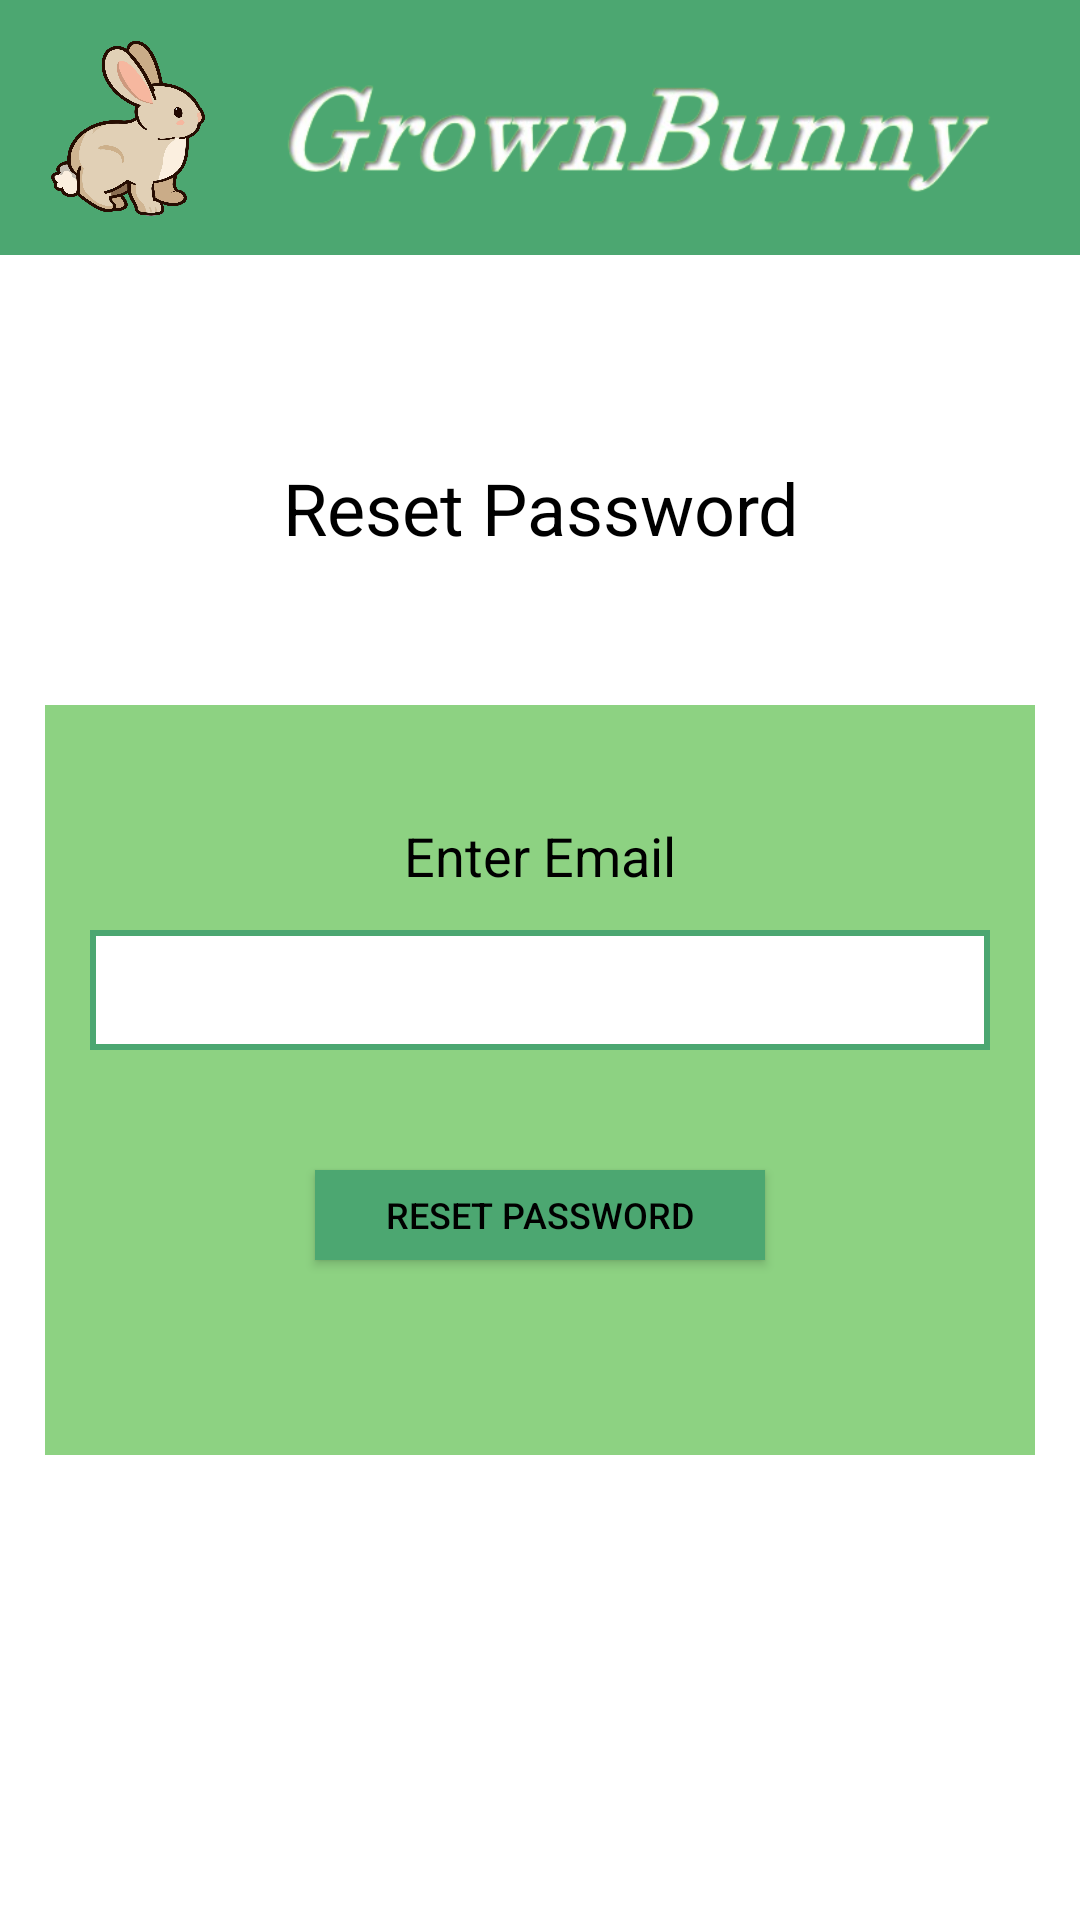

Named icons in this screenshot (1080x1920) and their centers, (x,y):
bunny: (128,128)
